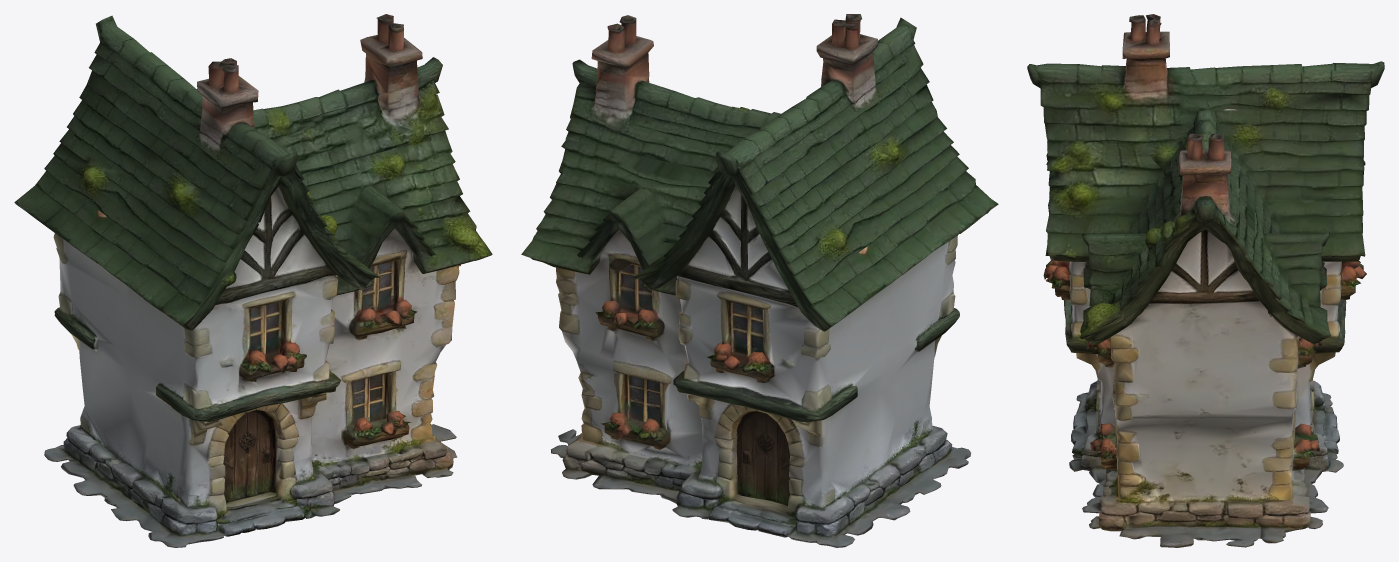
The model's file is town_house_townhouse_green.glb.
3 views of the same model, side by side, from view 1: azimuth 30°, elevation 25°; view 2: azimuth 150°, elevation 25°; view 3: azimuth 270°, elevation 25° (orthographic). The views are drawn at different scales.
Visible parts, largest first — view 1: tripo_node_b9b7e8d9-4aee-4bbb-9032-d2acfea0513d; view 2: tripo_node_b9b7e8d9-4aee-4bbb-9032-d2acfea0513d; view 3: tripo_node_b9b7e8d9-4aee-4bbb-9032-d2acfea0513d.
Boxes of the visible parts, left/top/right/bottom form: tripo_node_b9b7e8d9-4aee-4bbb-9032-d2acfea0513d: left=14, top=14, right=492, bottom=547; tripo_node_b9b7e8d9-4aee-4bbb-9032-d2acfea0513d: left=521, top=14, right=998, bottom=547; tripo_node_b9b7e8d9-4aee-4bbb-9032-d2acfea0513d: left=1027, top=14, right=1384, bottom=547.
Bounding box in the file's own units: 7.46 × 9 × 6.96.
1 material, 1 textured.
